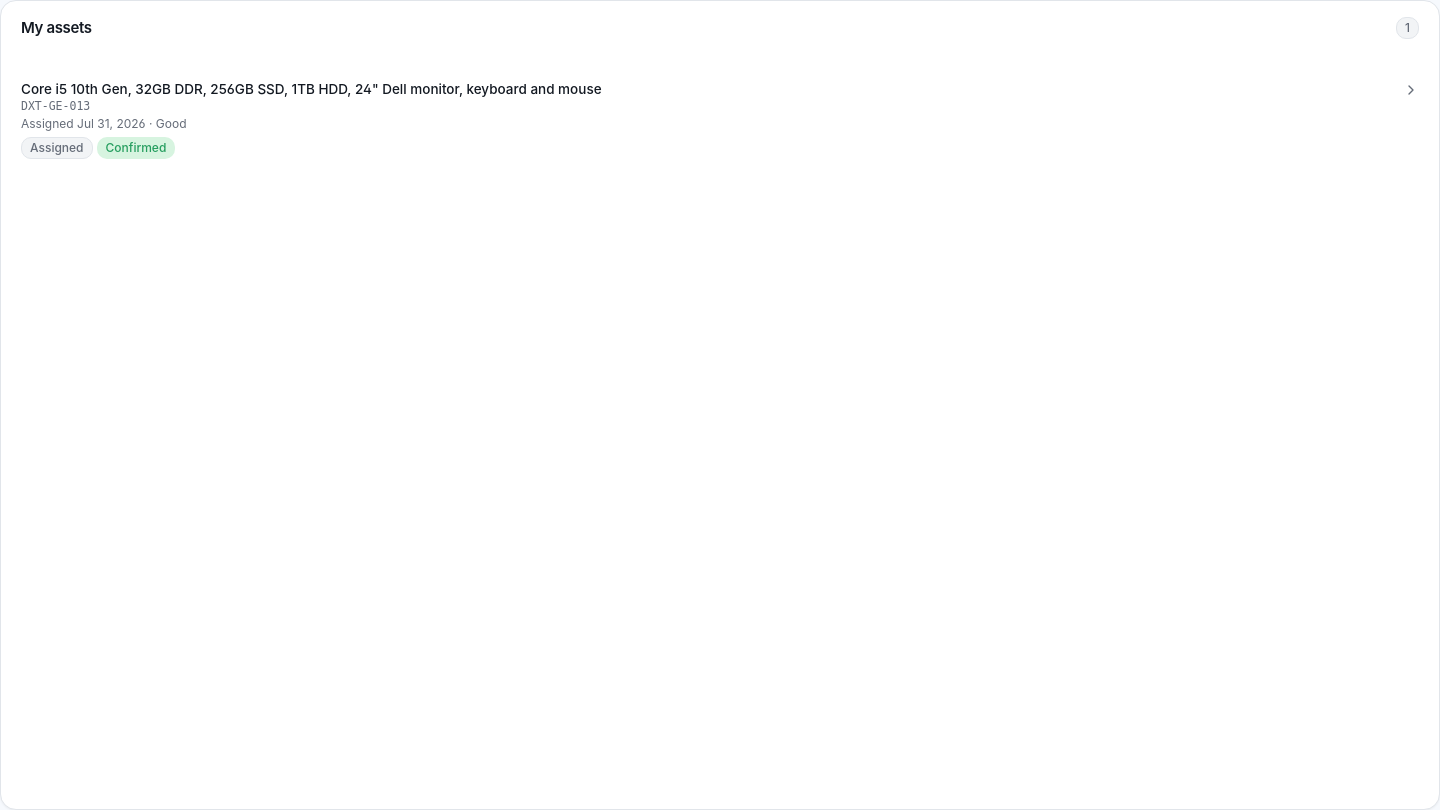
Scenario: My Assets card: each asset opens its own record › an employee with one asset can open it
Click the link named "DXT-GE-013" at (720, 130), box [13, 72, 1427, 189]
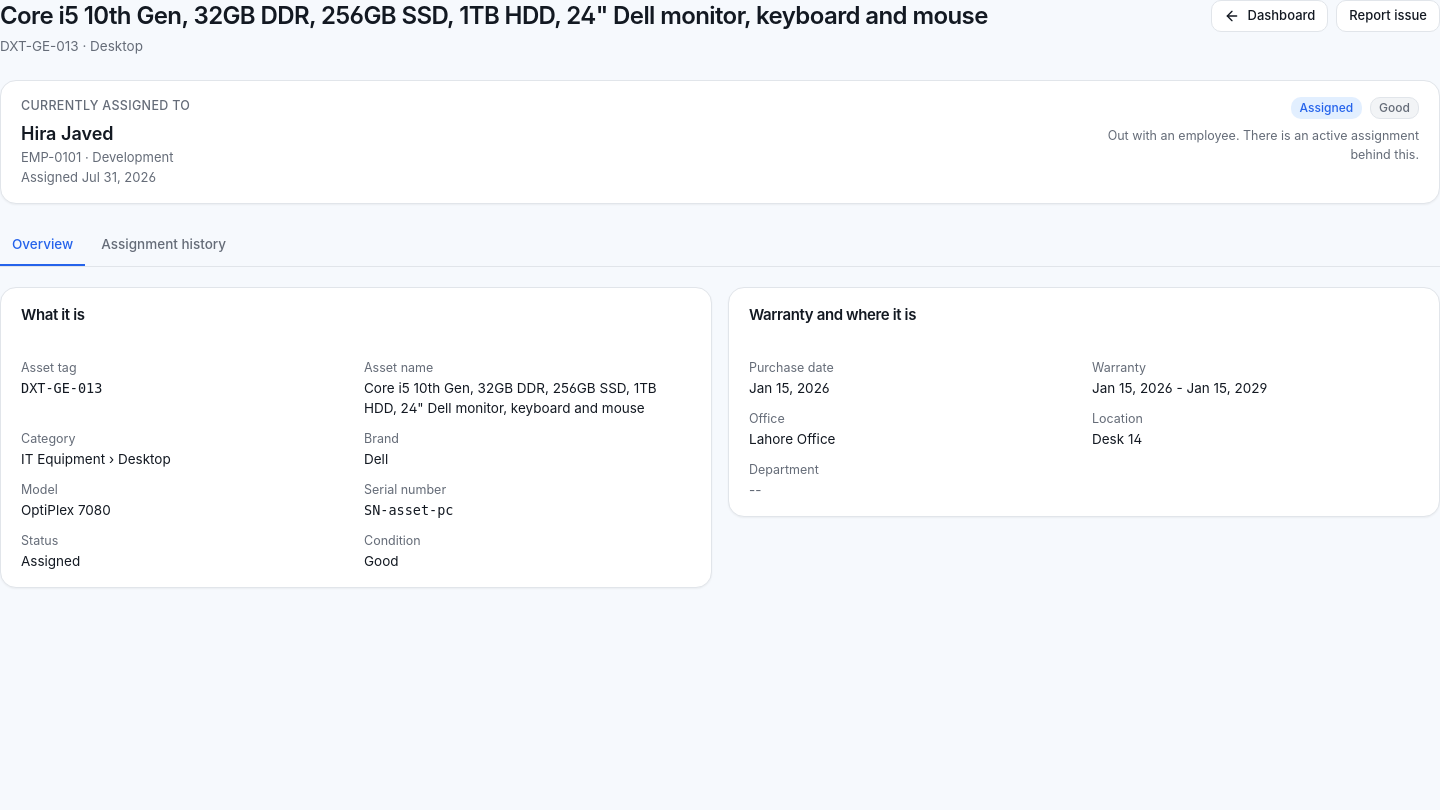
expect the heading named "Core i5 10th Gen, 32GB DDR, 256GB SSD, 1TB HDD, 24\" Dell monitor, keyboard and mouse" is shown: met, box [0, 0, 988, 32]
